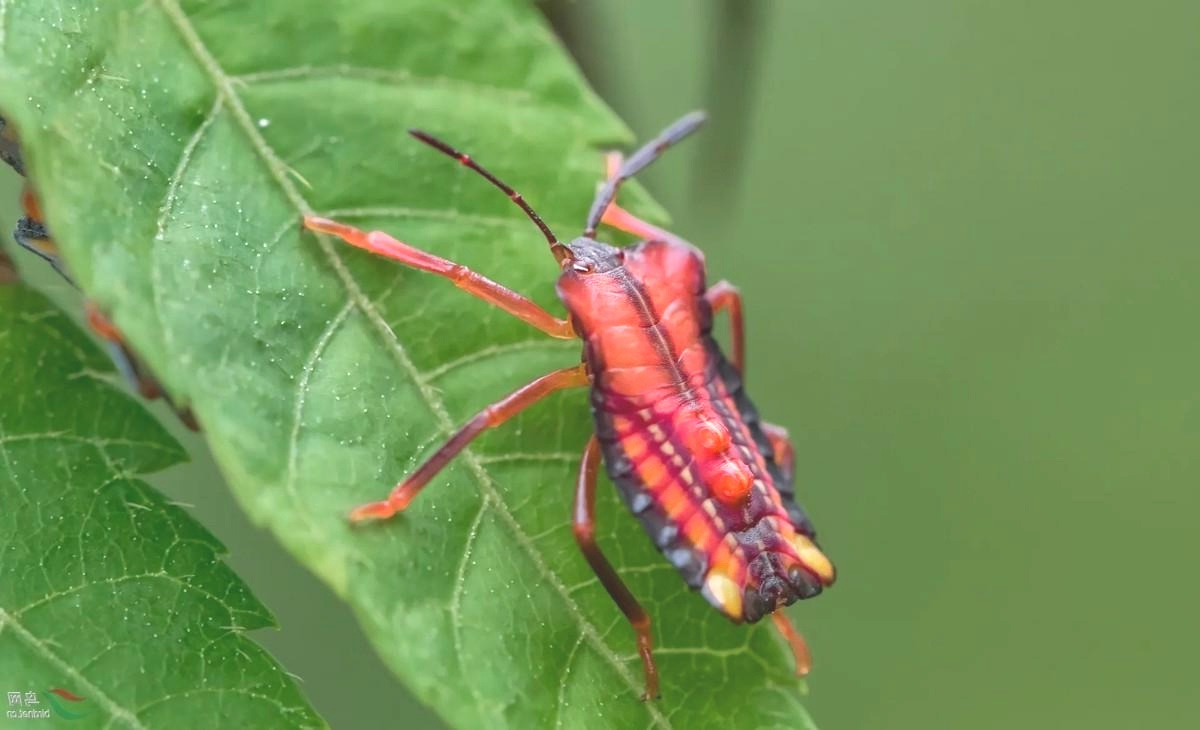Stink_Bug: (393, 169, 832, 573)
